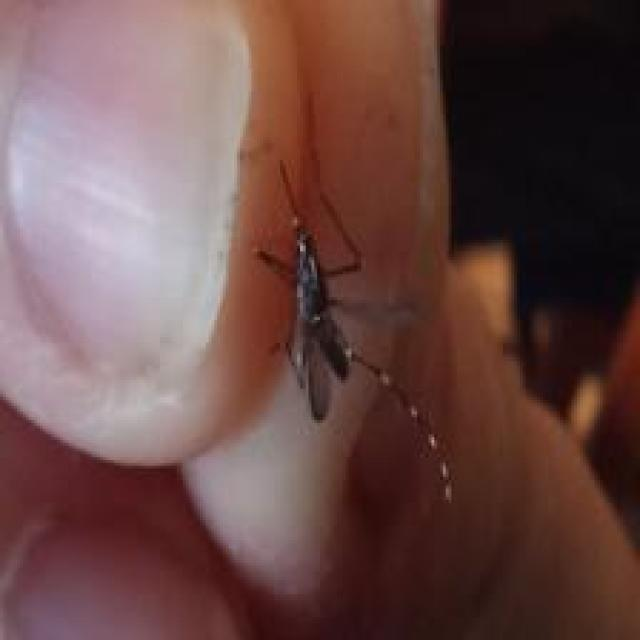Aedes albopictus: (252, 159, 457, 504)
